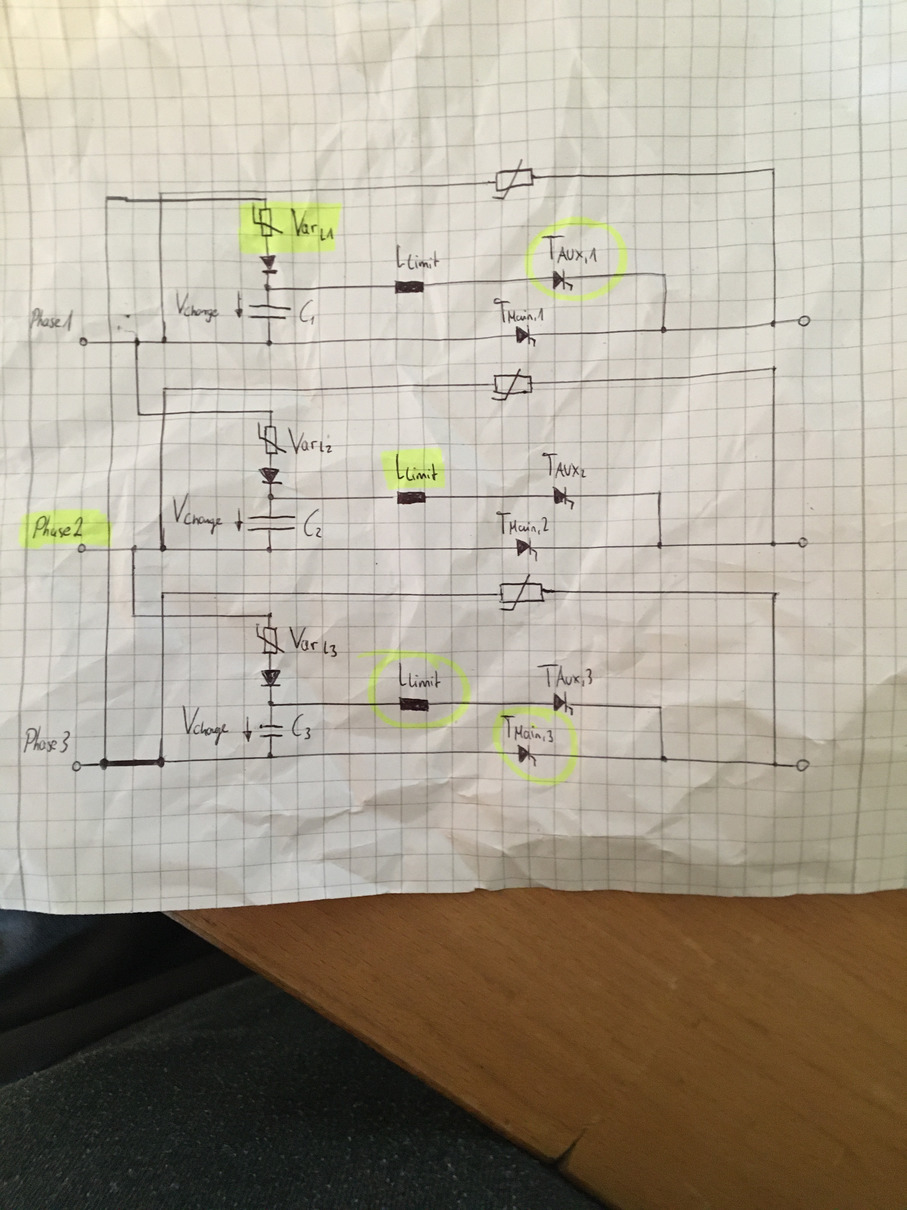capacitor.unpolarized: (246, 514, 297, 534), (247, 302, 293, 322), (257, 722, 287, 741)
crossover: (159, 409, 170, 419), (106, 338, 116, 347), (104, 545, 114, 554), (158, 612, 169, 620), (156, 197, 166, 204)
diode: (258, 466, 284, 486), (259, 668, 282, 688), (257, 254, 278, 275)
inductor: (397, 696, 430, 714), (391, 490, 428, 506), (392, 278, 426, 295)
junction: (98, 756, 112, 771), (155, 755, 168, 770), (158, 336, 171, 348), (131, 336, 143, 348), (769, 589, 780, 601), (658, 752, 669, 764), (658, 324, 669, 335), (659, 270, 670, 281), (262, 282, 273, 293), (129, 543, 140, 554), (264, 610, 275, 621), (265, 750, 275, 762), (101, 192, 111, 203), (158, 543, 169, 553), (266, 492, 277, 502), (655, 488, 664, 499), (769, 318, 778, 329), (769, 539, 779, 548), (655, 540, 664, 550), (770, 363, 779, 373), (769, 165, 779, 174), (265, 545, 275, 554), (129, 611, 139, 620), (266, 699, 276, 708), (770, 759, 780, 768), (265, 338, 274, 347), (260, 195, 270, 203), (656, 703, 665, 711), (160, 385, 168, 393), (267, 407, 275, 415), (159, 589, 166, 598), (157, 189, 165, 196), (135, 410, 143, 417)
terminal: (793, 757, 812, 773), (796, 314, 812, 328), (70, 759, 84, 773), (796, 536, 811, 549), (77, 335, 91, 348), (76, 542, 88, 554)
text: (171, 491, 224, 536), (181, 704, 230, 747), (540, 234, 598, 266), (288, 624, 339, 659), (174, 287, 220, 324), (289, 206, 335, 242), (500, 714, 554, 744), (494, 509, 550, 537), (22, 724, 72, 755), (535, 663, 594, 689), (492, 296, 546, 323), (394, 242, 441, 273), (394, 451, 440, 482), (31, 514, 85, 540), (540, 451, 588, 480), (286, 425, 334, 454), (398, 660, 442, 691), (28, 306, 75, 333), (302, 507, 324, 540), (290, 712, 313, 742), (298, 298, 317, 326)
thyristor: (552, 268, 574, 291), (552, 485, 576, 506), (552, 691, 574, 713), (515, 537, 538, 558), (515, 324, 537, 345), (517, 744, 538, 765)
varistor: (491, 157, 535, 200), (498, 573, 546, 612), (490, 367, 535, 402), (251, 204, 284, 238), (254, 622, 287, 656), (257, 421, 288, 455)
